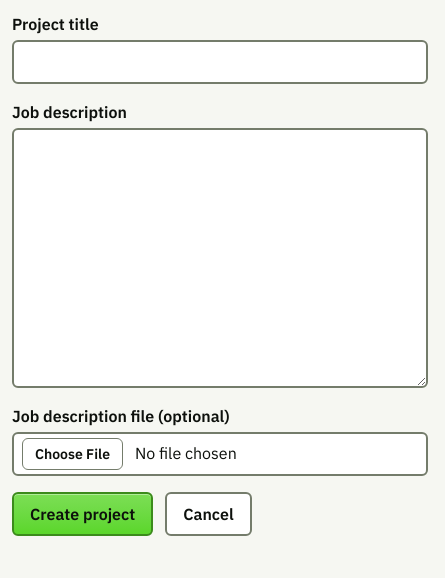
create project form › shows the server's field mistakes next to the fields
Click the button "Create project" at coordinates (83, 514), box [12,492,153,536]
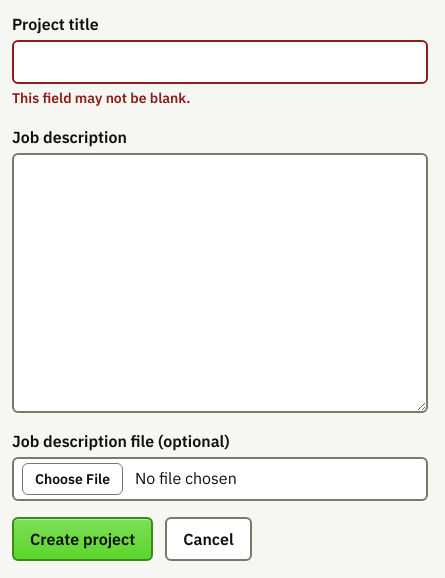
expect the text "This field may not be blank." is shown: met, box [11,88,190,107]
